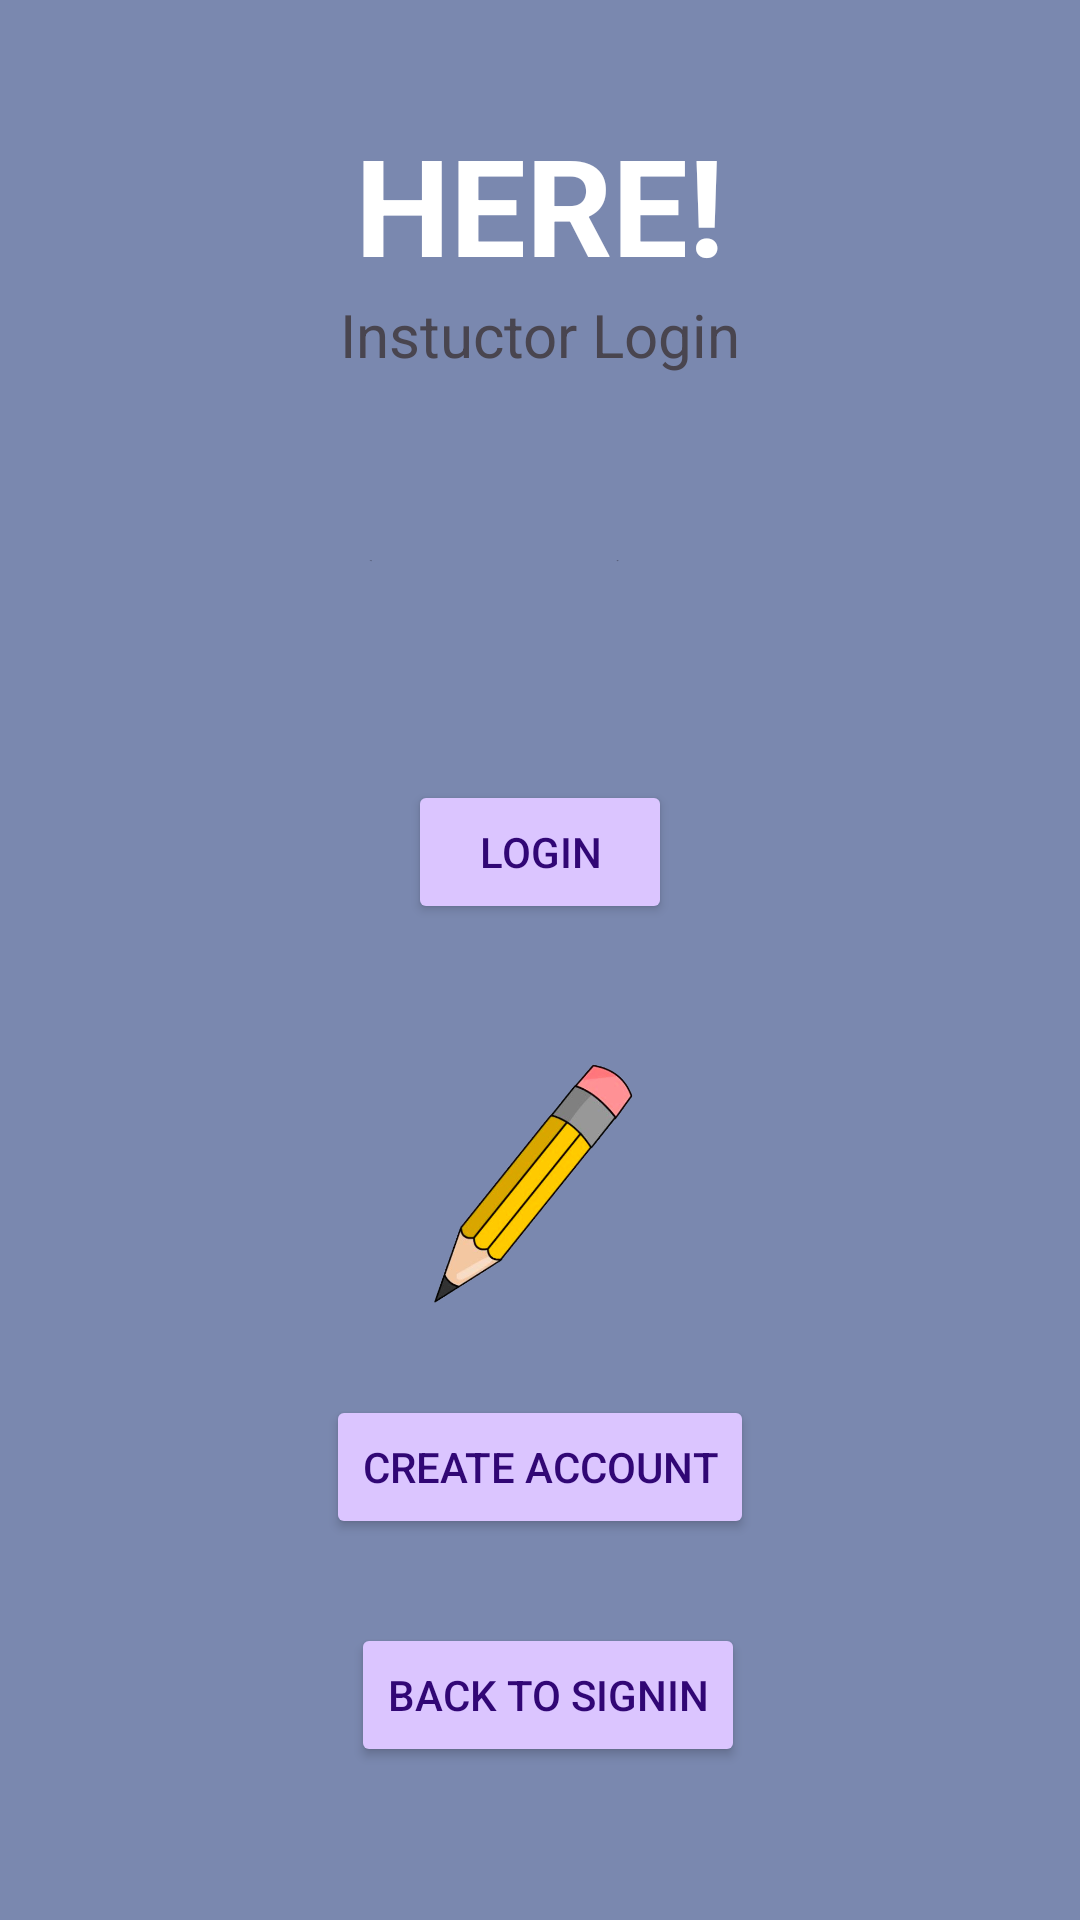

Screen size 1080 × 1920. Icon name, then its center in pixels as (x,y):
pencil: (533,1184)
